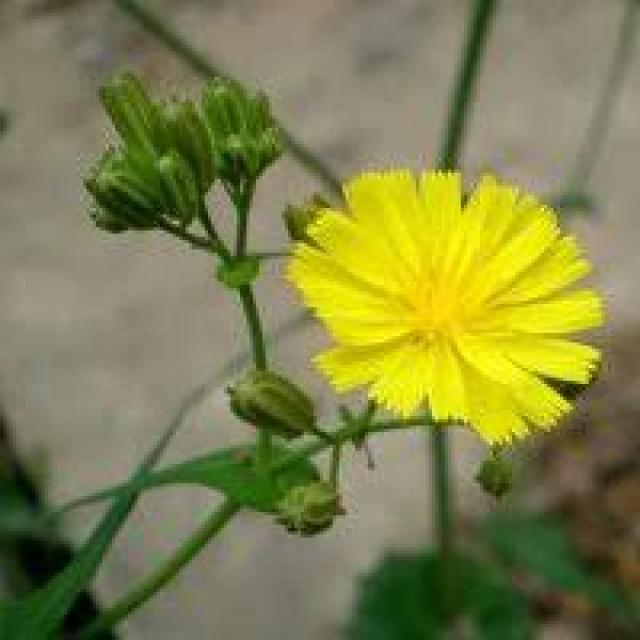organic waste: (290, 157, 612, 432)
